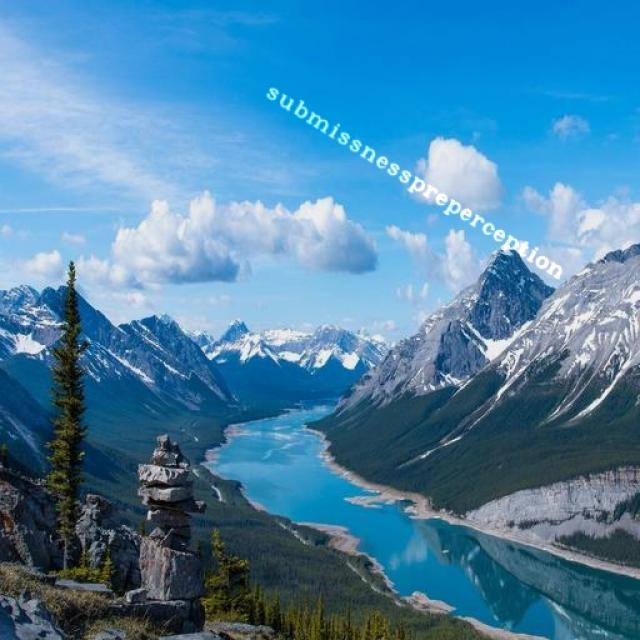watermark: (258, 78, 575, 283)
